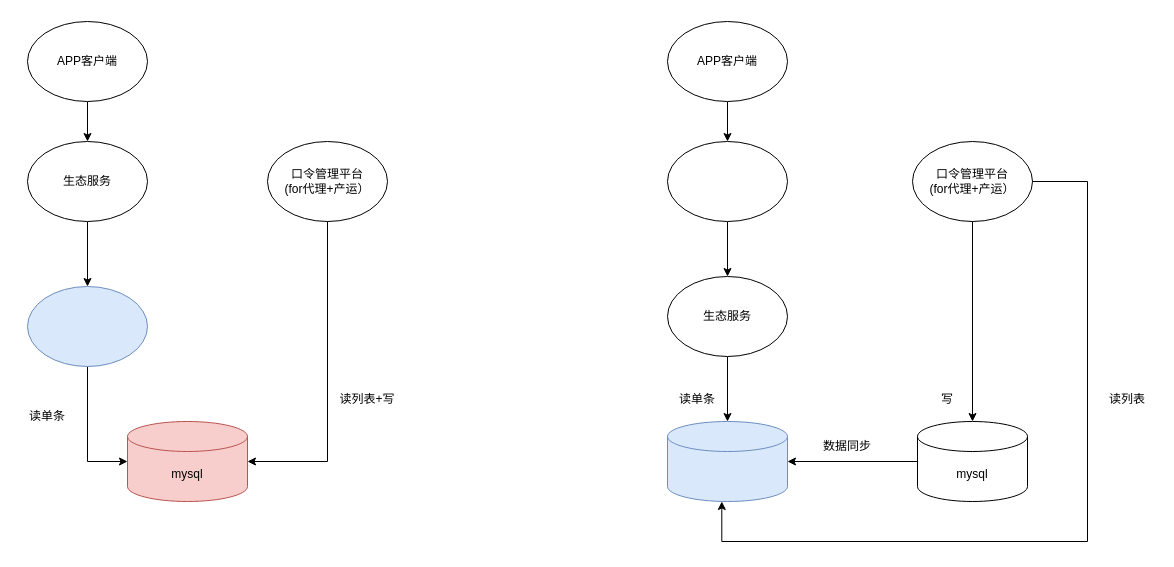
Image size: 1174x567. Some labels were removed from this diagram. The centre of each missing label's shape, as x and y in pixels:
"ES" goes at (727,461).
"redis cache" goes at (87,326).
"生态网关" goes at (727,181).
